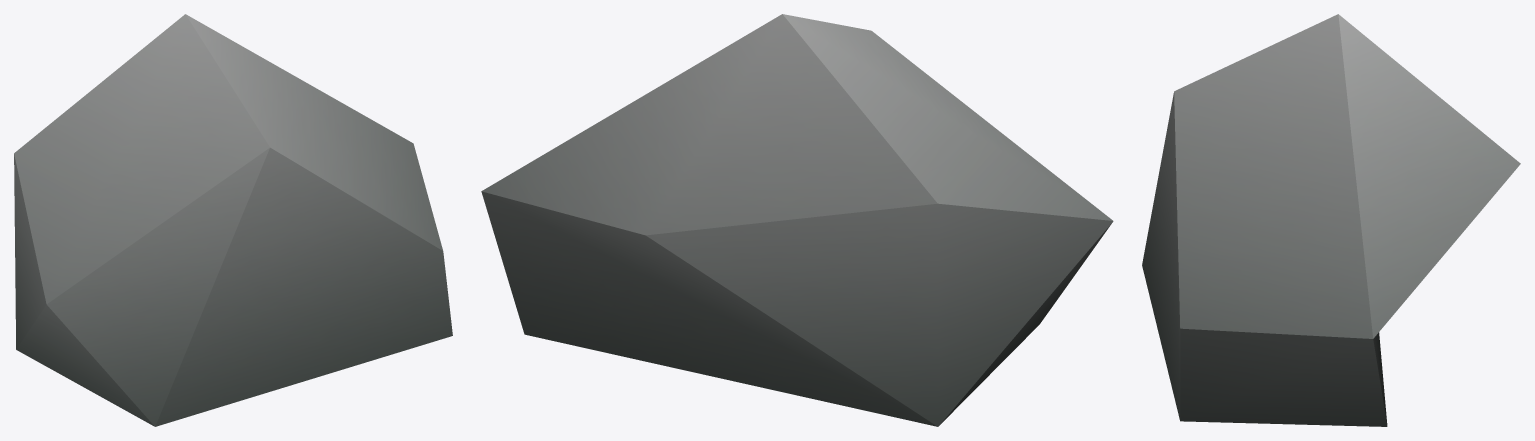
Rendered from Rock_lvl2_03.fbx.
The picture shows the model from 3 angles, left to right: view 1: azimuth 30°, elevation 25°; view 2: azimuth 150°, elevation 25°; view 3: azimuth 270°, elevation 25°; orthographic projection. The views are drawn at different scales.
Visible parts, largest first — view 1: rock_1; view 2: rock_1; view 3: rock_1.
Boxes of the visible parts, left/top/right/bottom form: rock_1: left=14, top=14, right=452, bottom=426; rock_1: left=481, top=14, right=1113, bottom=426; rock_1: left=1142, top=14, right=1520, bottom=426.
Bounding box in the file's own units: 1.05 × 0.6817 × 0.7454.
